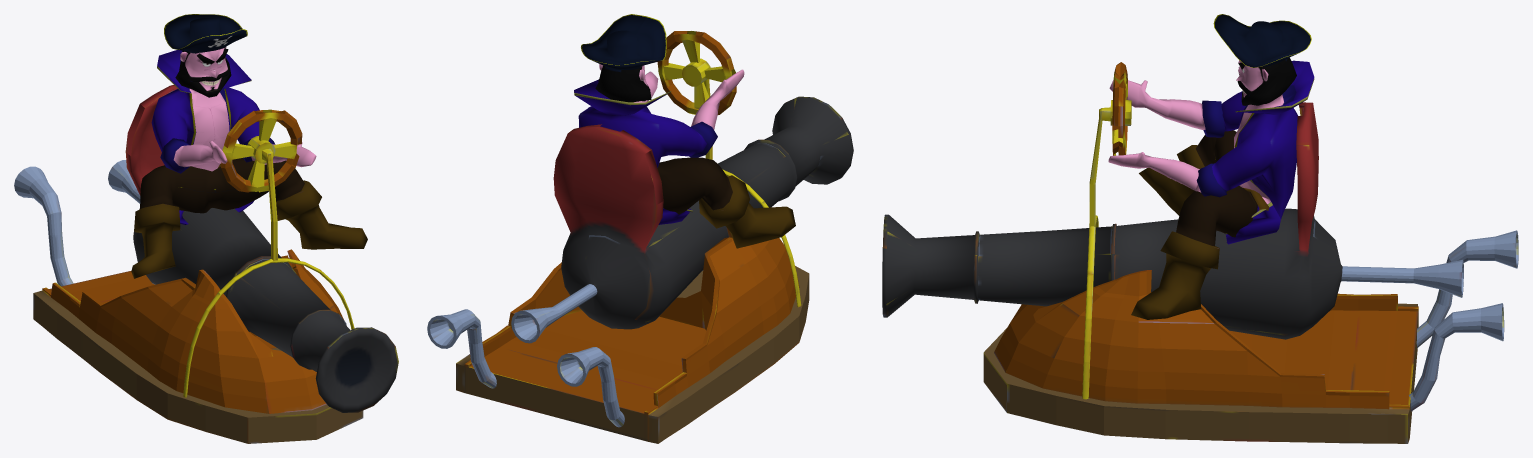
The model's file is pirataGiroDER_000303.obj.
3 renders of one model, left to right at view 1: azimuth 30°, elevation 25°; view 2: azimuth 150°, elevation 25°; view 3: azimuth 270°, elevation 25°, orthographic. The views are drawn at different scales.
Parts seen in each view (by area): view 1: carro_pirata, Pirata_PirataH; view 2: carro_pirata, Pirata_PirataH; view 3: carro_pirata, Pirata_PirataH.
Part boxes in pixels (x1=…): carro_pirata: x1=14, y1=85, x2=398, y2=443; Pirata_PirataH: x1=131, y1=14, x2=367, y2=278; carro_pirata: x1=427, y1=31, x2=853, y2=443; Pirata_PirataH: x1=574, y1=14, x2=795, y2=248; carro_pirata: x1=882, y1=62, x2=1518, y2=443; Pirata_PirataH: x1=1108, y1=14, x2=1314, y2=319.
Size of the model in its own units: 5.66 by 7.69 by 12.1.
